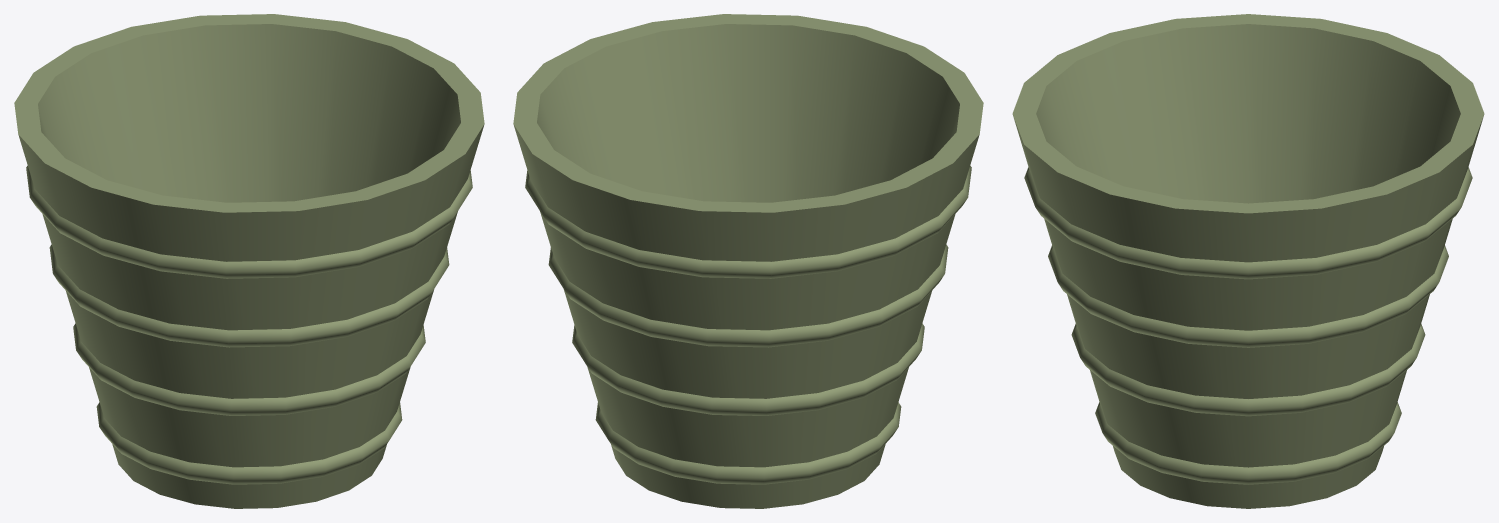
The model's file is water-collection-and-purification-collapsible-cup-43b41444__20208.glb.
3 views of the same model, side by side, from view 1: azimuth 30°, elevation 25°; view 2: azimuth 150°, elevation 25°; view 3: azimuth 270°, elevation 25° (orthographic).
Parts seen in each view (by area): view 1: collapsible-cup; view 2: collapsible-cup; view 3: collapsible-cup.
Part boxes in pixels (<box>): collapsible-cup: <box>14,14,484,508</box>; collapsible-cup: <box>513,14,983,508</box>; collapsible-cup: <box>1012,14,1484,508</box>.
Bounding box in the file's own units: 0.12 × 0.095 × 0.12.
